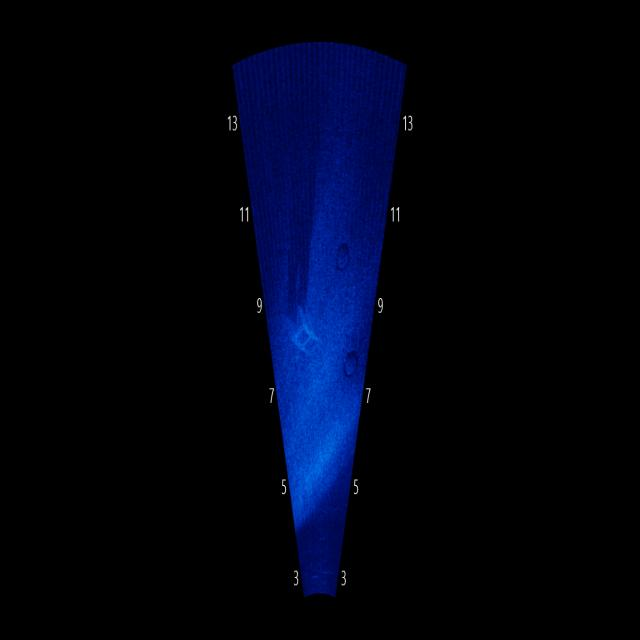circle: (330, 232, 356, 280)
square: (279, 297, 325, 360)
